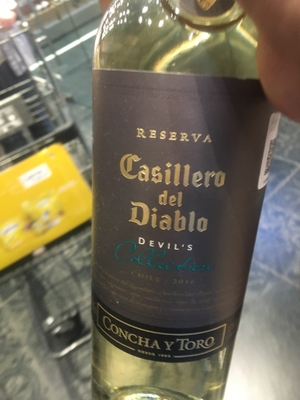casillero del diablo devils collection verde: (78, 8, 277, 400)
